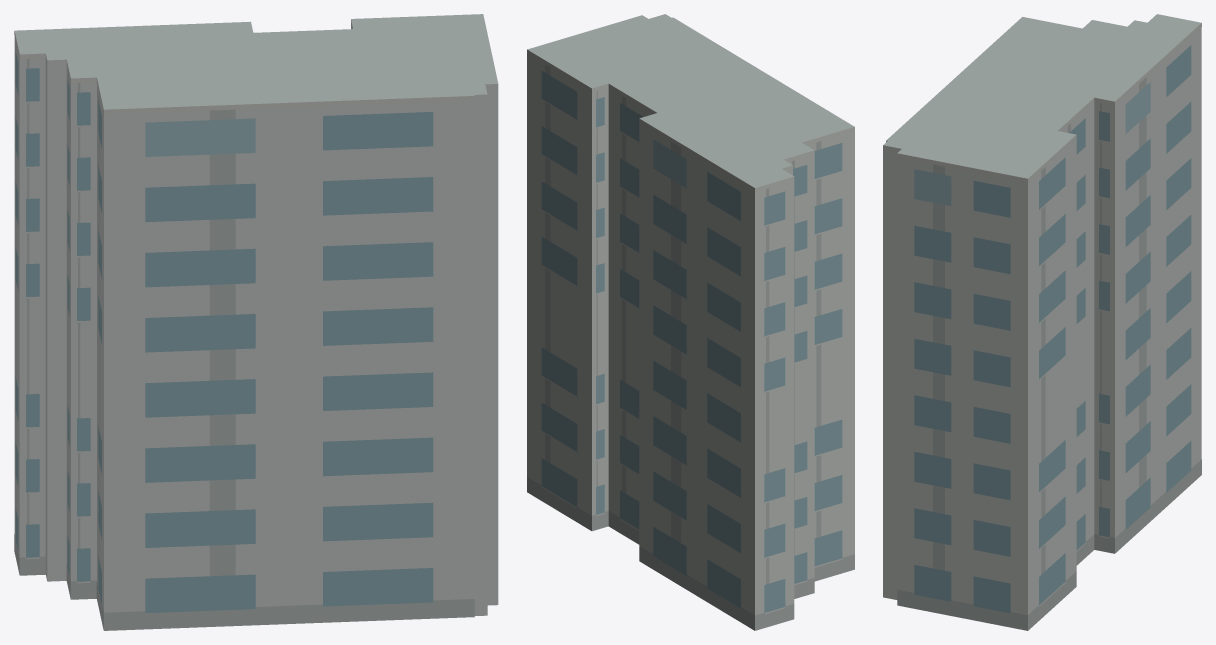
The model's file is survey-upis-32635429.glb.
The picture shows the model from 3 angles, left to right: view 1: azimuth 30°, elevation 25°; view 2: azimuth 150°, elevation 25°; view 3: azimuth 270°, elevation 25°; orthographic projection. The views are drawn at different scales.
Visible parts, largest first — view 1: survey-upis-32635429.tmp; view 2: survey-upis-32635429.tmp; view 3: survey-upis-32635429.tmp.
Part boxes in pixels (x1,y1,x2,y2): survey-upis-32635429.tmp: (14,14,498,630); survey-upis-32635429.tmp: (527,14,854,630); survey-upis-32635429.tmp: (883,14,1201,630).
Size of the model in its own units: 20.63 by 26.4 by 16.87.
